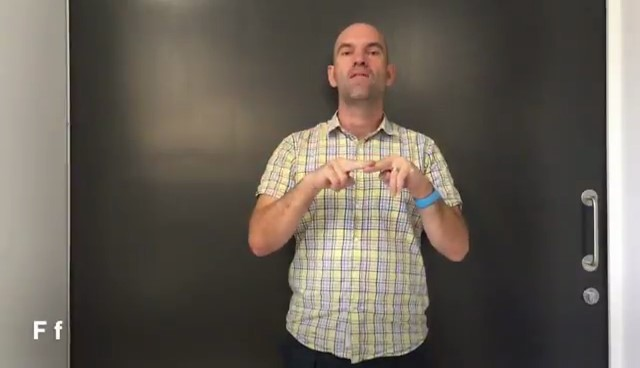F: (308, 142, 426, 207)
